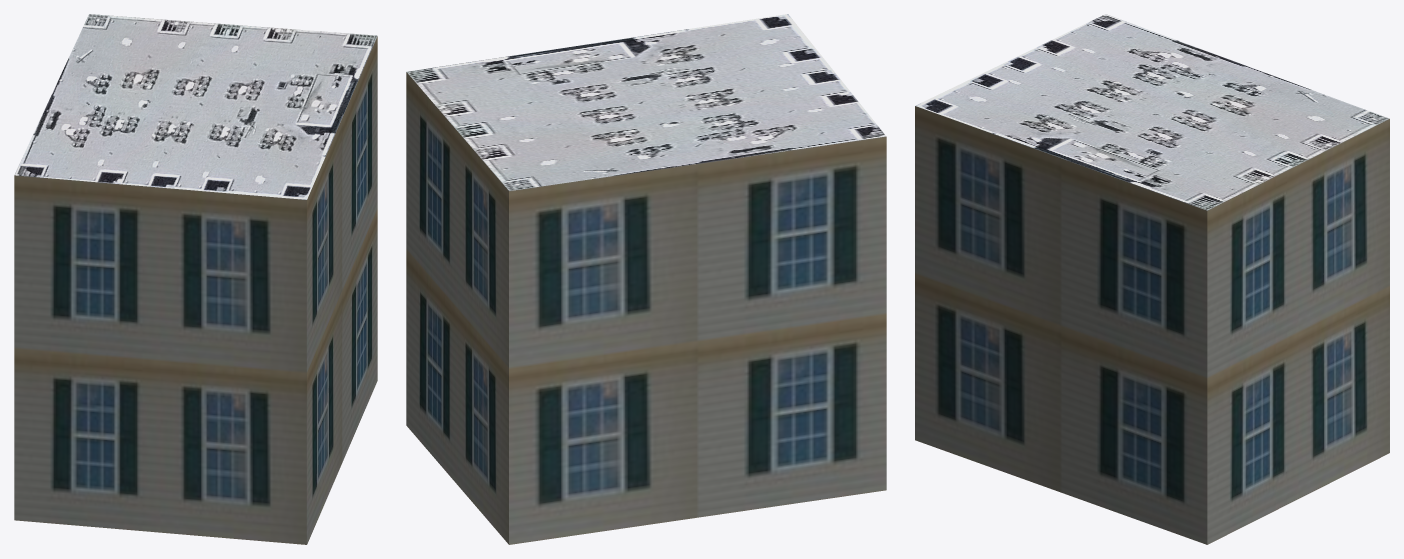
The model's file is ResTex__256.fbx.
The picture shows the model from 3 angles, left to right: view 1: azimuth 30°, elevation 25°; view 2: azimuth 150°, elevation 25°; view 3: azimuth 270°, elevation 25°; orthographic projection. The views are drawn at different scales.
Visible parts, largest first — view 1: CityEngineMaterial_7_m, CityEngineMaterial_m; view 2: CityEngineMaterial_7_m, CityEngineMaterial_m; view 3: CityEngineMaterial_7_m, CityEngineMaterial_m.
Boxes of the visible parts, bbox=[...] form: CityEngineMaterial_7_m: bbox=[14, 36, 377, 544]; CityEngineMaterial_m: bbox=[14, 14, 377, 199]; CityEngineMaterial_7_m: bbox=[406, 72, 886, 544]; CityEngineMaterial_m: bbox=[406, 14, 886, 190]; CityEngineMaterial_7_m: bbox=[915, 106, 1389, 544]; CityEngineMaterial_m: bbox=[915, 14, 1389, 210].
Bounding box in the file's own units: 7.57 × 6 × 7.72.
2 materials, 2 textured.
